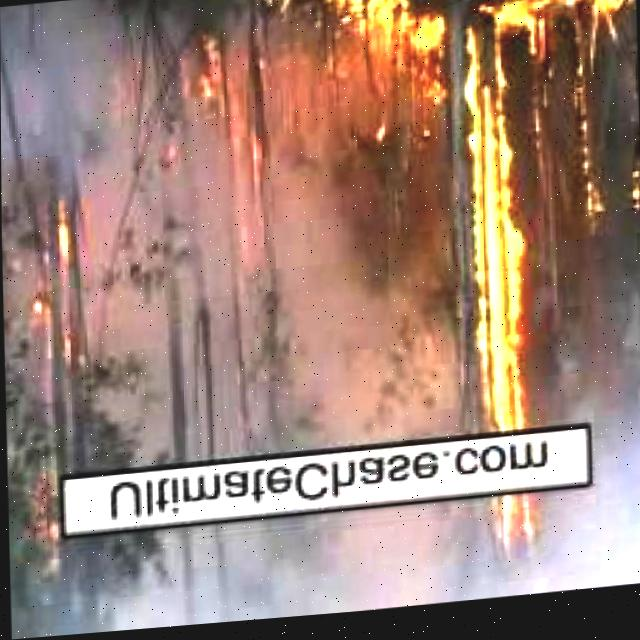Fire: (464, 2, 528, 439), (343, 0, 432, 67), (583, 0, 637, 49)
Smoke: (2, 253, 451, 472), (68, 497, 640, 636), (0, 0, 286, 277)
